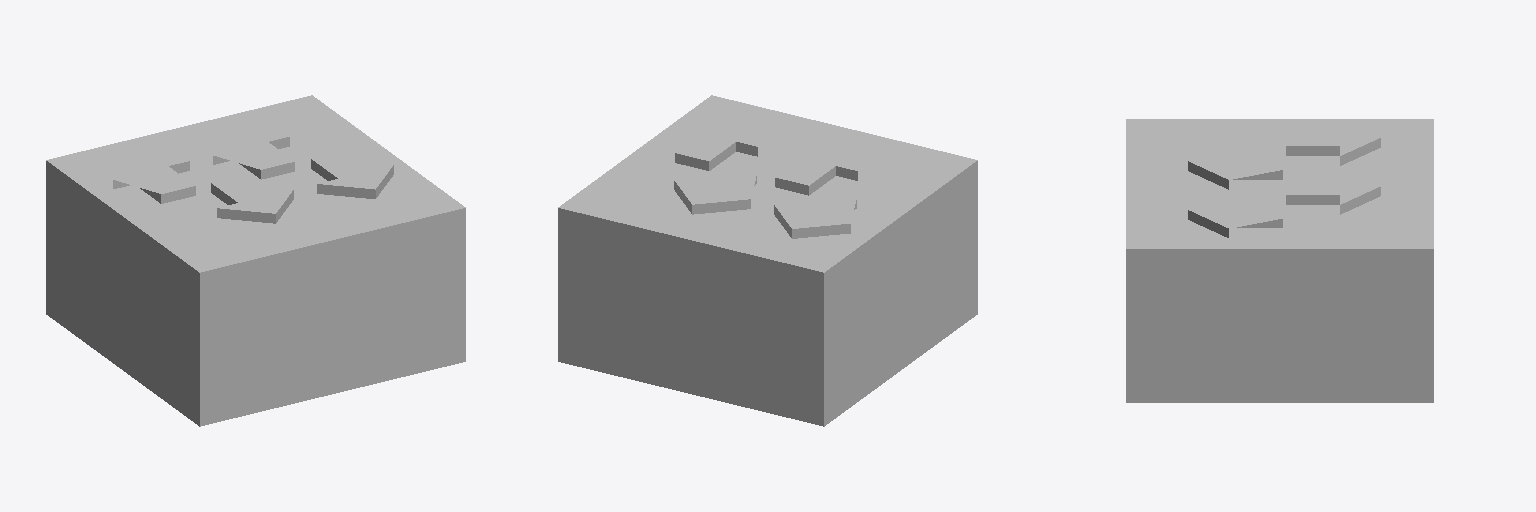
File: switch.obj
3 views of the same model, side by side, from view 1: azimuth 30°, elevation 25°; view 2: azimuth 150°, elevation 25°; view 3: azimuth 270°, elevation 25° (orthographic).
Parts seen in each view (by area): view 1: 挤压.13; view 2: 挤压.13; view 3: 挤压.13.
Boxes of the visible parts, x1,y1,x2,y2 form: 挤压.13: [46, 95, 465, 426]; 挤压.13: [558, 95, 977, 426]; 挤压.13: [1126, 119, 1433, 402].
Size of the model in its own units: 8.24 by 4.85 by 8.24.